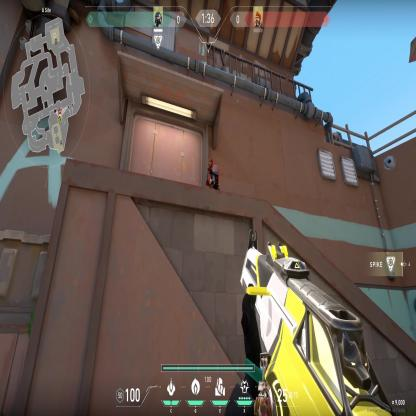enemy: (204, 156, 220, 194)
